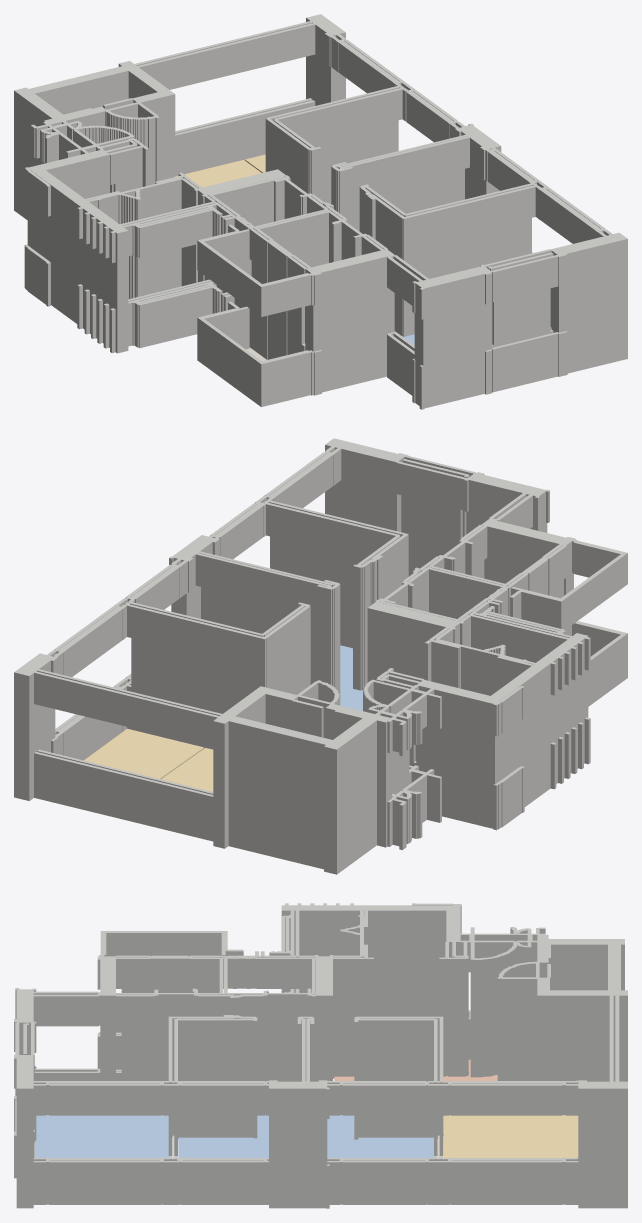
3 views of the same model, one above another, from view 1: azimuth 30°, elevation 25°; view 2: azimuth 150°, elevation 25°; view 3: azimuth 270°, elevation 25° (orthographic). The views are drawn at different scales.
Visible parts, largest first — view 1: walls, room:living:11; view 2: walls, room:living:12, room:living:11, room:bedroom:1; view 3: walls, room:living:11, room:bedroom:2, room:bedroom:9, room:bedroom:1.
Part boxes in pixels (x1,y1,x2,y2): walls: (14,14,627,409); room:living:11: (175,160,261,187); walls: (14,438,627,874); room:living:12: (84,728,204,779); room:living:11: (161,748,213,791); room:bedroom:1: (340,645,363,710); walls: (14,903,627,1208); room:living:11: (443,1115,578,1157); room:bedroom:2: (35,1115,168,1157); room:bedroom:9: (327,1115,433,1158); room:bedroom:1: (178,1115,268,1158).
Size of the model in its own units: 9.34 by 2.8 by 13.03.
